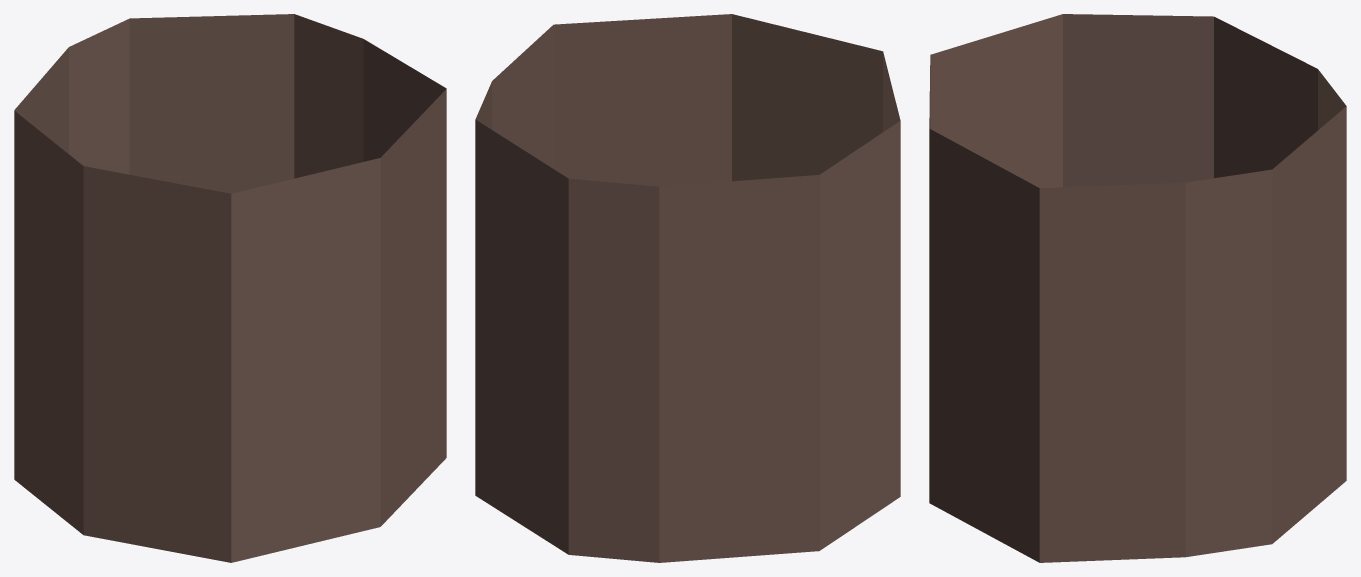
3 renders of one model, left to right at view 1: azimuth 30°, elevation 25°; view 2: azimuth 150°, elevation 25°; view 3: azimuth 270°, elevation 25°, orthographic.
Parts seen in each view (by area): view 1: Cube.007; view 2: Cube.007; view 3: Cube.007.
Part boxes in pixels (x1=…): Cube.007: x1=14, y1=14, x2=446, y2=562; Cube.007: x1=475, y1=14, x2=900, y2=562; Cube.007: x1=929, y1=14, x2=1346, y2=562.
Size of the model in its own units: 2678 by 2685 by 2710.
